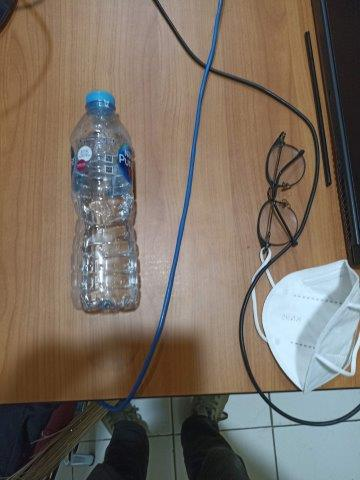botolplastik: (71, 90, 140, 315)
